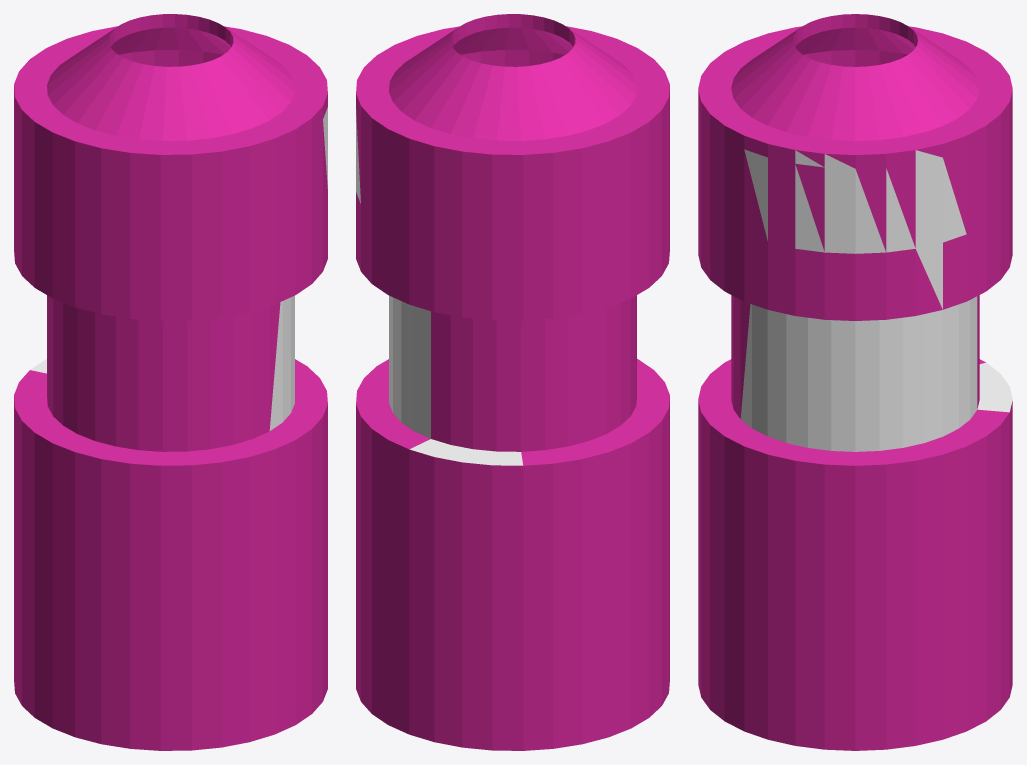
3 views of the same model, side by side, from view 1: azimuth 30°, elevation 25°; view 2: azimuth 150°, elevation 25°; view 3: azimuth 270°, elevation 25° (orthographic).
Visible parts, largest first — view 1: Untitled; view 2: Untitled; view 3: Untitled.
Boxes of the visible parts, left/top/right/bottom form: Untitled: left=14, top=14, right=327, bottom=750; Untitled: left=356, top=14, right=669, bottom=750; Untitled: left=698, top=14, right=1012, bottom=750.
Bounding box in the file's own units: 2 × 4.52 × 2.
